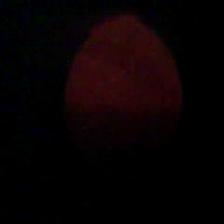fertile: (61, 12, 188, 188)
